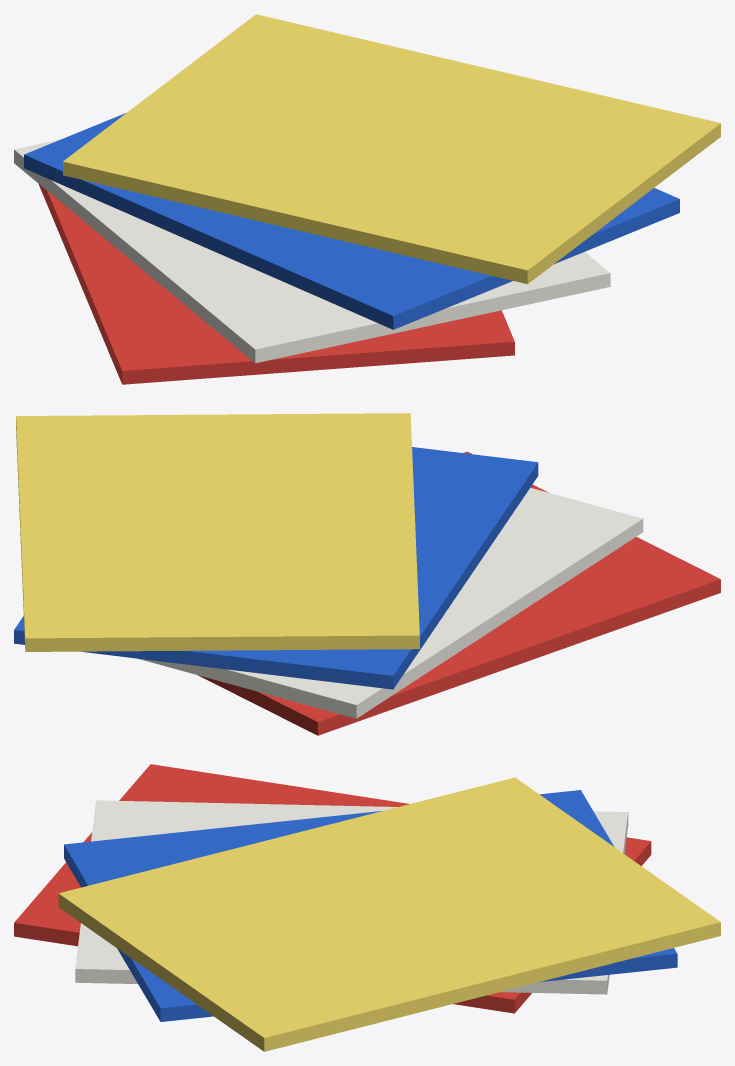
File: Magazines.fbx
The picture shows the model from 3 angles, top to bottom: view 1: azimuth 30°, elevation 25°; view 2: azimuth 150°, elevation 25°; view 3: azimuth 270°, elevation 25°; orthographic projection.
Parts seen in each view (by area): view 1: MagazinesBody; view 2: MagazinesBody; view 3: MagazinesBody.
Boxes of the visible parts, <box> form: MagazinesBody: <box>14,14,720,384</box>; MagazinesBody: <box>14,413,720,735</box>; MagazinesBody: <box>14,764,720,1051</box>.
Bounding box in the file's own units: 0.3987 × 0.035 × 0.3716.
